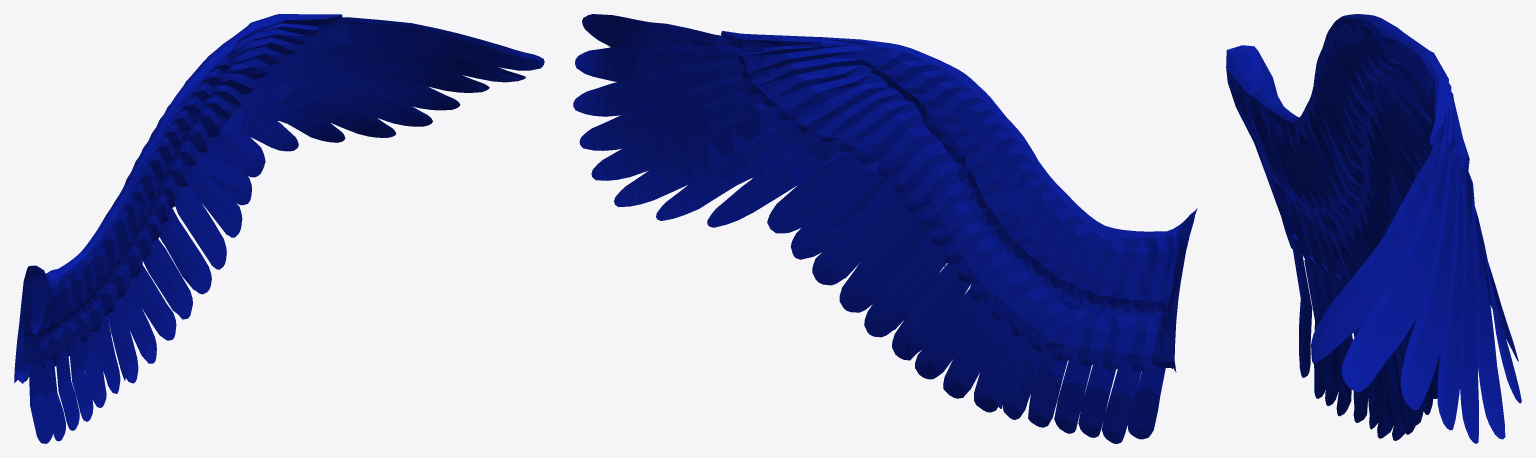
The model's file is wing.obj.
3 renders of one model, left to right at view 1: azimuth 30°, elevation 25°; view 2: azimuth 150°, elevation 25°; view 3: azimuth 270°, elevation 25°, orthographic. The views are drawn at different scales.
Parts seen in each view (by area): view 1: l_wing_1; view 2: l_wing_1; view 3: l_wing_1.
Part boxes in pixels (x1=…): l_wing_1: x1=14, y1=14, x2=544, y2=443; l_wing_1: x1=573, y1=14, x2=1197, y2=443; l_wing_1: x1=1226, y1=14, x2=1521, y2=443.
Size of the model in its own units: 0.7108 by 0.4273 by 0.22.
